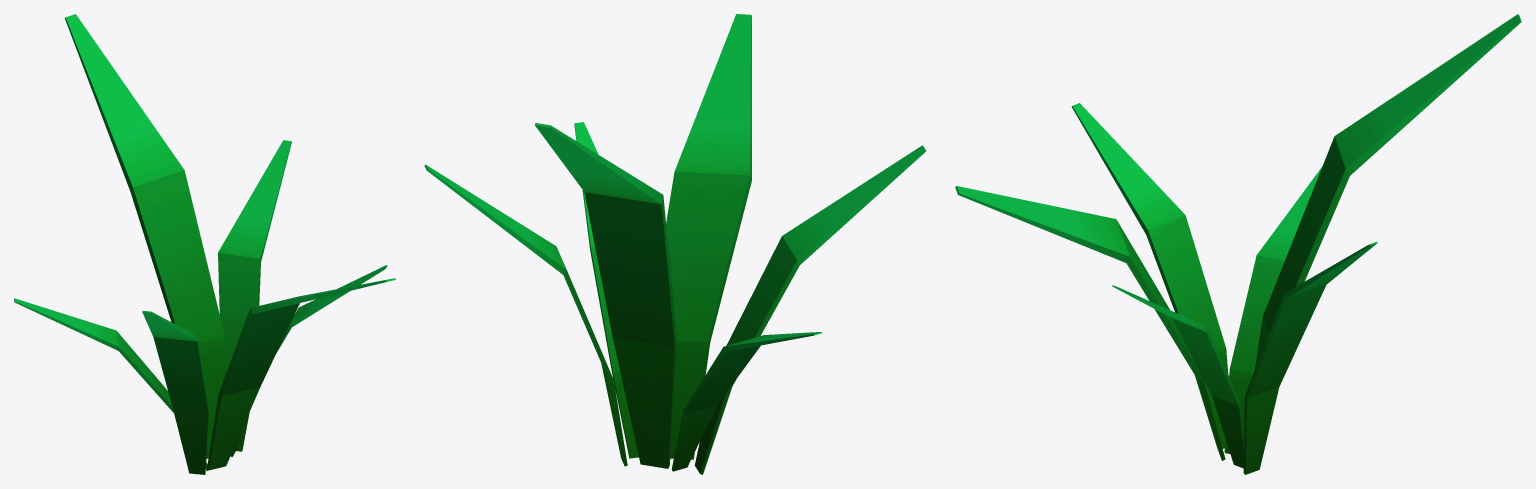
The model's file is bush4.glb.
3 views of the same model, side by side, from view 1: azimuth 30°, elevation 25°; view 2: azimuth 150°, elevation 25°; view 3: azimuth 270°, elevation 25° (orthographic). The views are drawn at different scales.
Visible parts, largest first — view 1: bush4; view 2: bush4; view 3: bush4.
Boxes of the visible parts, box(x1,y1,x2,y2) form: bush4: box(14, 14, 395, 474); bush4: box(424, 14, 925, 474); bush4: box(955, 14, 1521, 474).
Size of the model in its own units: 0.5984 by 0.7082 by 0.8454.
Materials: 1 (1 with a texture image).
